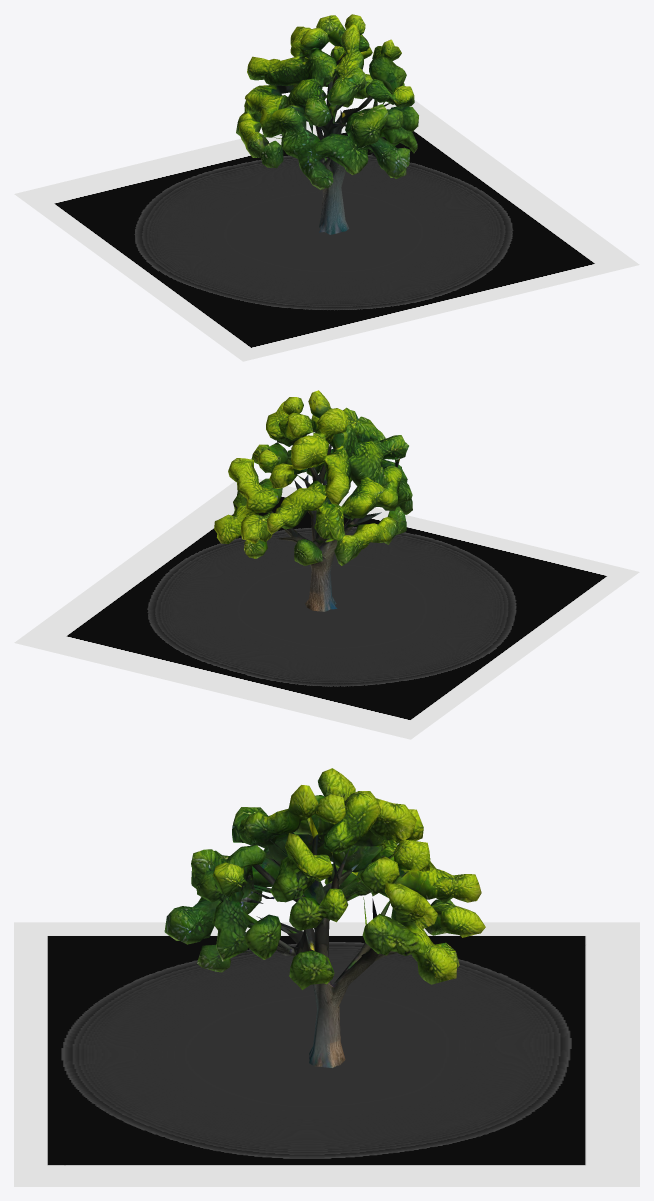
File: Kid.fbx
3 views of the same model, one above another, from view 1: azimuth 30°, elevation 25°; view 2: azimuth 150°, elevation 25°; view 3: azimuth 270°, elevation 25° (orthographic). The views are drawn at different scales.
Visible parts, largest first — view 1: Shadow, tripo_node_00166de1; view 2: Shadow, tripo_node_00166de1; view 3: Shadow, tripo_node_00166de1.
Boxes of the visible parts, x1=… form: Shadow: x1=14, y1=100, x2=639, y2=361; tripo_node_00166de1: x1=236, y1=14, x2=418, y2=234; Shadow: x1=14, y1=479, x2=639, y2=739; tripo_node_00166de1: x1=214, y1=390, x2=412, y2=611; Shadow: x1=14, y1=922, x2=639, y2=1186; tripo_node_00166de1: x1=164, y1=768, x2=485, y2=1067.
Size of the model in its own units: 191 by 94.97 by 191.
